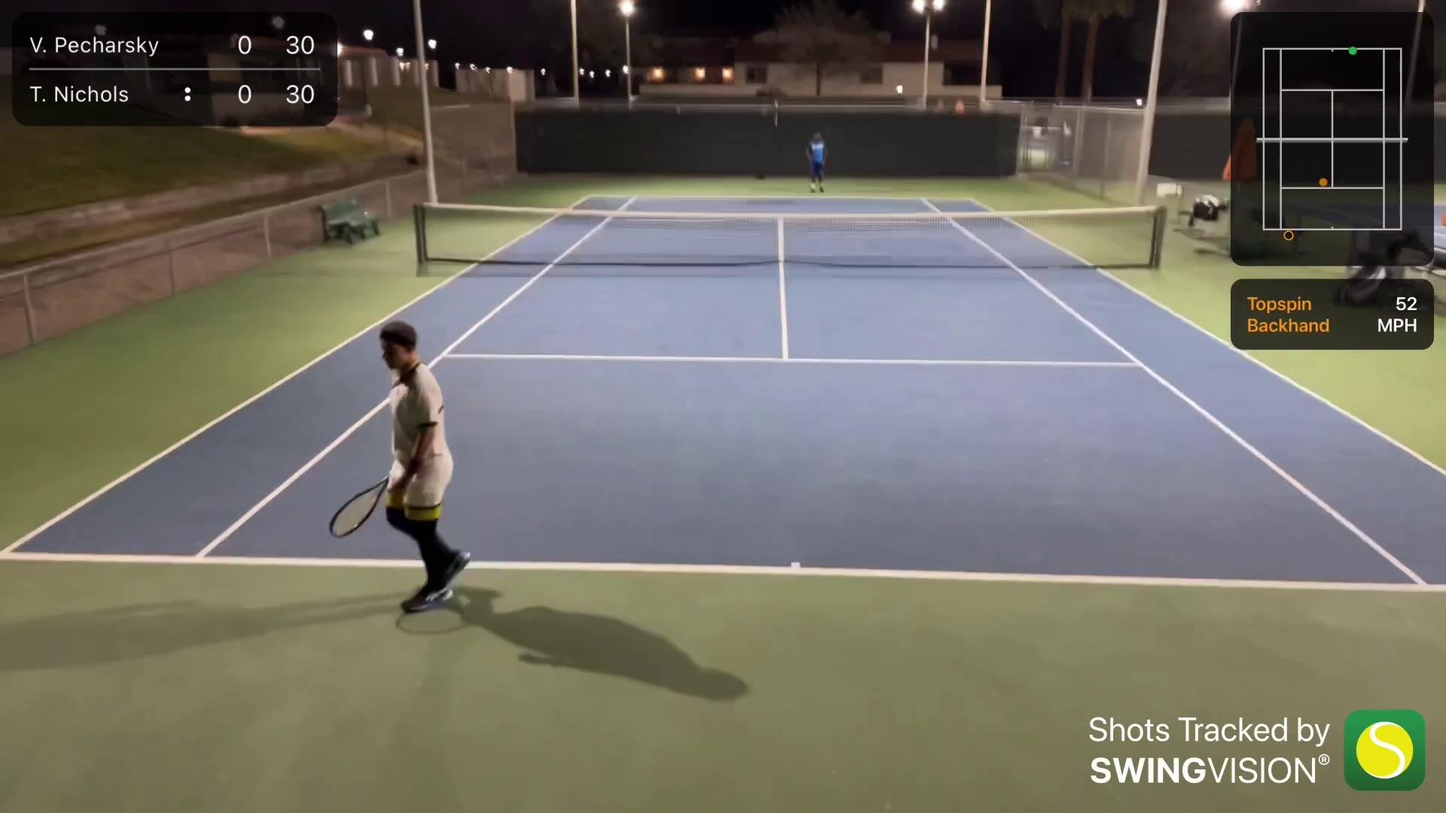ball: (987, 1, 990, 6)
